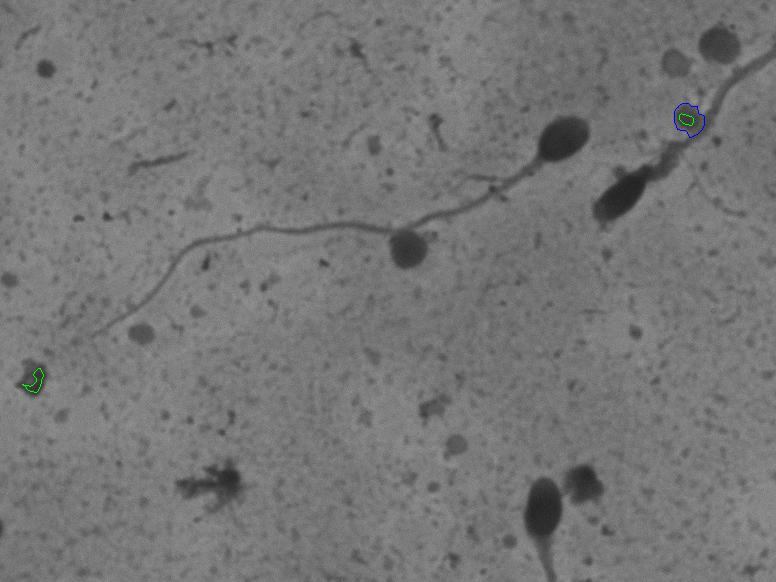Abnormal: (572, 112, 753, 242)
Normal: (71, 101, 608, 350)
